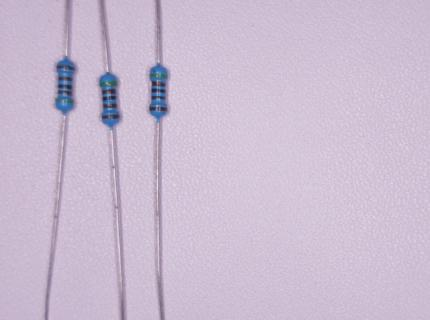Black band: (58, 84, 72, 90), (103, 96, 116, 101), (151, 89, 166, 93)
Brown band: (56, 64, 75, 70), (101, 114, 120, 119), (151, 81, 166, 87), (103, 103, 117, 109), (149, 107, 168, 111), (102, 89, 117, 94), (58, 90, 73, 95), (59, 76, 73, 81), (151, 96, 166, 100)
Green band: (149, 73, 168, 79), (56, 98, 74, 104), (99, 81, 118, 86)
